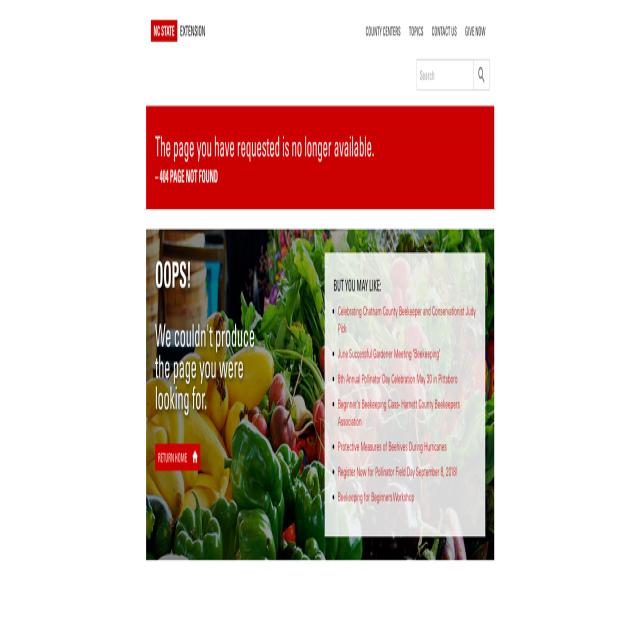button: (361, 16, 405, 47), (150, 19, 208, 41), (155, 444, 201, 471), (427, 16, 461, 47), (461, 16, 490, 47), (404, 16, 428, 47), (474, 59, 489, 90)
field: (416, 59, 474, 90)
